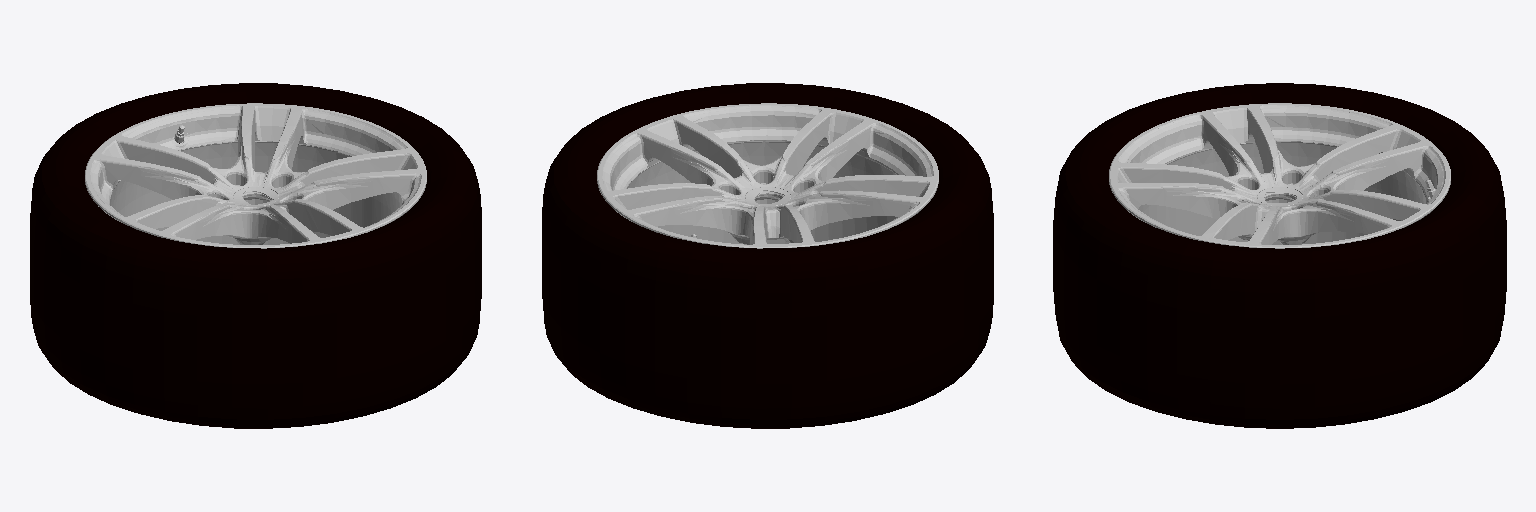
File: E3_Reifen_HA_centered.obj
3 renders of one model, left to right at view 1: azimuth 30°, elevation 25°; view 2: azimuth 150°, elevation 25°; view 3: azimuth 270°, elevation 25°, orthographic.
Visible parts, largest first — view 1: Default PSHELL; view 2: Default PSHELL; view 3: Default PSHELL.
Boxes of the visible parts, x1,y1,x2,y2 form: Default PSHELL: [30, 83, 481, 428]; Default PSHELL: [542, 83, 993, 428]; Default PSHELL: [1053, 83, 1506, 428].
Bounding box in the file's own units: 3.79 × 1.62 × 3.79.